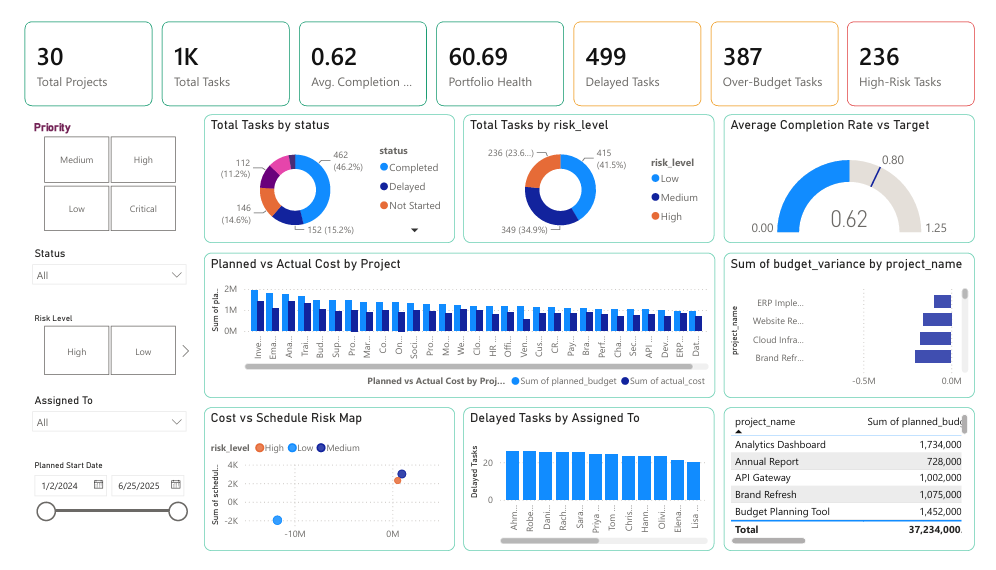

The dashboard page shown, as its layout file describes it:
{"tool":"powerbi","page":{"name":"Page 1","canvas":[1280,720],"ordinal":0},"visuals":[{"type":"slicer","fields":{"Values":["Project Tasks.priority"]},"box":[11.6,135.3,224,157],"z":0},{"type":"slicer","fields":{"Values":["Project Tasks.status"]},"box":[12,301,224,77],"z":1000},{"type":"slicer","fields":{"Values":["Project Tasks.risk_level"]},"box":[12,390,224,93],"z":2000},{"type":"slicer","fields":{"Values":["Project Tasks.assigned_to"]},"box":[12,495,224,77],"z":3000},{"type":"slicer","fields":{"Values":["Project Tasks.planned_start_date"]},"box":[12,584,224,124],"z":4000},{"type":"donutChart","fields":{"Y":["Project Tasks.Total Tasks"],"Category":["Project Tasks.status"]},"box":[248,132,332,170],"z":5000},{"type":"donutChart","fields":{"Category":["Project Tasks.risk_level"],"Y":["Project Tasks.Total Tasks"]},"box":[592,132,332,170],"z":6000},{"type":"gauge","title":"Average Completion Rate vs Target","fields":{"Y":["Project Tasks.Average Completion Rate"]},"box":[936,132,332,170],"z":7000},{"type":"clusteredColumnChart","title":"Planned vs Actual Cost by Project","fields":{"Category":["Project Tasks.project_name"],"Y":["Sum(Project Tasks.planned_budget)","Sum(Project Tasks.actual_cost)"]},"box":[248,314,676,192],"z":8000},{"type":"barChart","fields":{"Category":["Project Tasks.project_name"],"Y":["Sum(Project Tasks.budget_variance)"]},"box":[936,314.5,332,192],"z":9000},{"type":"scatterChart","title":"Cost vs Schedule Risk Map","fields":{"X":["Sum(Project Tasks.budget_variance)"],"Y":["Sum(Project Tasks.schedule_variance_days)"],"Size":["Sum(Project Tasks.planned_budget)"],"Series":["Project Tasks.risk_level"]},"box":[248,518.2,332,190],"z":10000},{"type":"columnChart","fields":{"Category":["Project Tasks.assigned_to"],"Y":["Project Tasks.Delayed Tasks"]},"box":[592,518.2,332,190],"z":11000},{"type":"tableEx","fields":{"Values":["Project Tasks.project_name","Sum(Project Tasks.planned_budget)","Sum(Project Tasks.actual_cost)","Sum(Project Tasks.budget_variance)","Sum(Project Tasks.schedule_variance_days)","Project Tasks.Portfolio Health Score"]},"box":[936,518.2,332,190],"z":12000},{"type":"cardVisual","fields":{"Data":["Project Tasks.Total Projects"]},"box":[12,8.1,169,112],"z":13000},{"type":"cardVisual","fields":{"Data":["Project Tasks.Total Tasks"]},"box":[193,8.1,169,112],"z":14000},{"type":"cardVisual","fields":{"Data":["Project Tasks.Average Completion Rate"]},"box":[374,8,169,112],"z":15000},{"type":"cardVisual","fields":{"Data":["Project Tasks.Portfolio Health Score"]},"box":[555,8.1,169,112],"z":16000},{"type":"cardVisual","fields":{"Data":["Project Tasks.Delayed Tasks"]},"box":[737,8,169,112],"z":17000},{"type":"cardVisual","fields":{"Data":["Project Tasks.Over-Budget Tasks"]},"box":[918,8,169,112],"z":18000},{"type":"cardVisual","fields":{"Data":["Project Tasks.High-Risk Tasks"]},"box":[1099,8,169,112],"z":19000}]}

Visuals, with their boxes in screenshot pixels (x1, y1, x2, y2), scaled from the page's 1280x720 canvas onto the 996x570 screenshot:
slicer - Project Tasks.priority: bbox(9, 107, 183, 231)
slicer - Project Tasks.status: bbox(9, 238, 184, 299)
slicer - Project Tasks.risk_level: bbox(9, 309, 184, 382)
slicer - Project Tasks.assigned_to: bbox(9, 392, 184, 453)
slicer - Project Tasks.planned_start_date: bbox(9, 462, 184, 560)
donutChart - Project Tasks.Total Tasks x Project Tasks.status: bbox(193, 104, 451, 239)
donutChart - Project Tasks.risk_level x Project Tasks.Total Tasks: bbox(461, 104, 719, 239)
"Average Completion Rate vs Target" gauge: bbox(728, 104, 987, 239)
"Planned vs Actual Cost by Project" clusteredColumnChart: bbox(193, 249, 719, 401)
barChart - Project Tasks.project_name x Sum(Project Tasks.budget_variance): bbox(728, 249, 987, 401)
"Cost vs Schedule Risk Map" scatterChart: bbox(193, 410, 451, 561)
columnChart - Project Tasks.assigned_to x Project Tasks.Delayed Tasks: bbox(461, 410, 719, 561)
tableEx - Project Tasks.project_name x Sum(Project Tasks.planned_budget): bbox(728, 410, 987, 561)
cardVisual - Project Tasks.Total Projects: bbox(9, 6, 141, 95)
cardVisual - Project Tasks.Total Tasks: bbox(150, 6, 282, 95)
cardVisual - Project Tasks.Average Completion Rate: bbox(291, 6, 423, 95)
cardVisual - Project Tasks.Portfolio Health Score: bbox(432, 6, 563, 95)
cardVisual - Project Tasks.Delayed Tasks: bbox(573, 6, 705, 95)
cardVisual - Project Tasks.Over-Budget Tasks: bbox(714, 6, 846, 95)
cardVisual - Project Tasks.High-Risk Tasks: bbox(855, 6, 987, 95)
